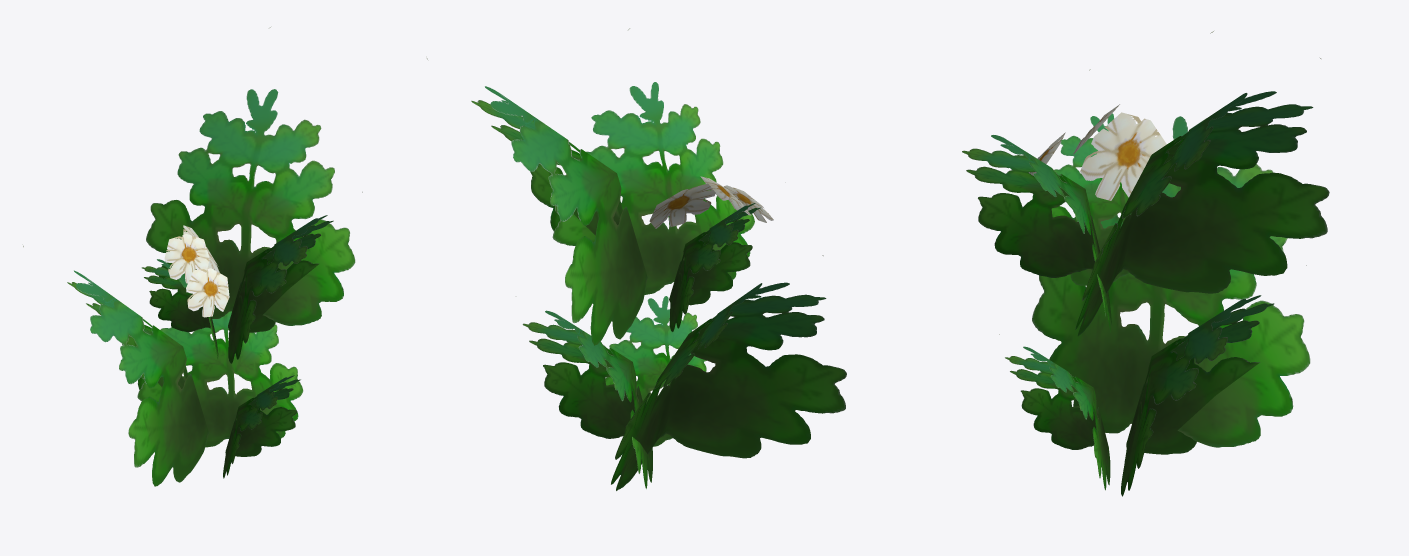
Rendered from rosaBrancaLOD.fbx.
3 views of the same model, side by side, from view 1: azimuth 30°, elevation 25°; view 2: azimuth 150°, elevation 25°; view 3: azimuth 270°, elevation 25° (orthographic). The views are drawn at different scales.
Parts seen in each view (by area): view 1: rosaBranca_LOD0; view 2: rosaBranca_LOD0; view 3: rosaBranca_LOD0.
Part boxes in pixels (x1,y1,x2,y2): rosaBranca_LOD0: (23, 27, 362, 486); rosaBranca_LOD0: (427, 28, 846, 490); rosaBranca_LOD0: (962, 31, 1329, 496).
Size of what is drawn, in the model's own units: 37.21 by 43.79 by 32.8.
